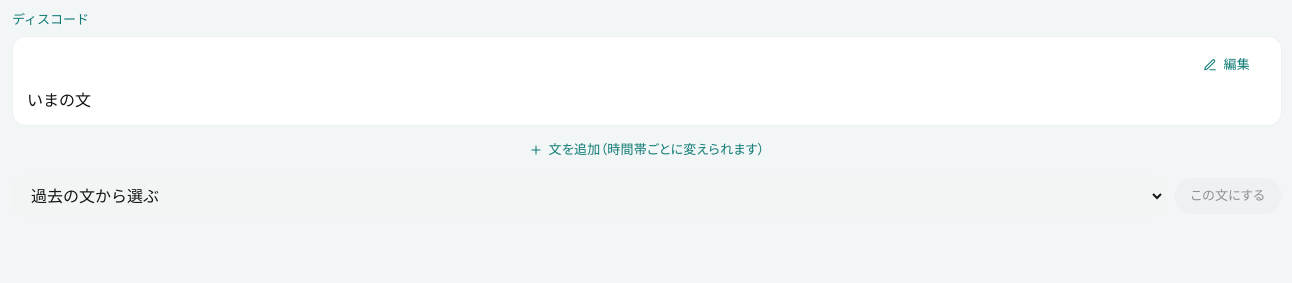
Scenario: ChannelTextRow（トップの一番上の、いま投稿されている文） › 選んだだけでは保存しない。「この文にする」を押すと、版を添えて保存し、返事を画面に取り込む
The image size is (1292, 283).
expect the button "この文にする" is disabled: met, box x1=1174 y1=178 x2=1282 y2=214
Select "前の文その1" in the dropdown named "ディスコードの過去の文": (589, 196) x1=12 y1=174 x2=1166 y2=218
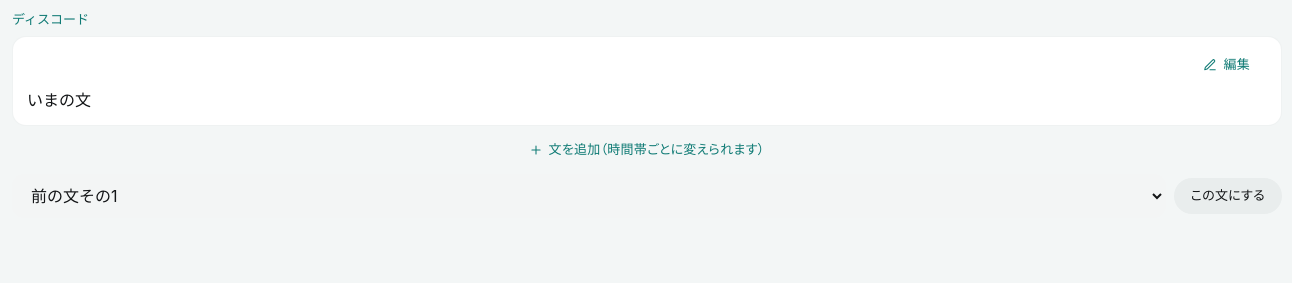
Click the button "この文にする": (1228, 196) x1=1174 y1=178 x2=1282 y2=214
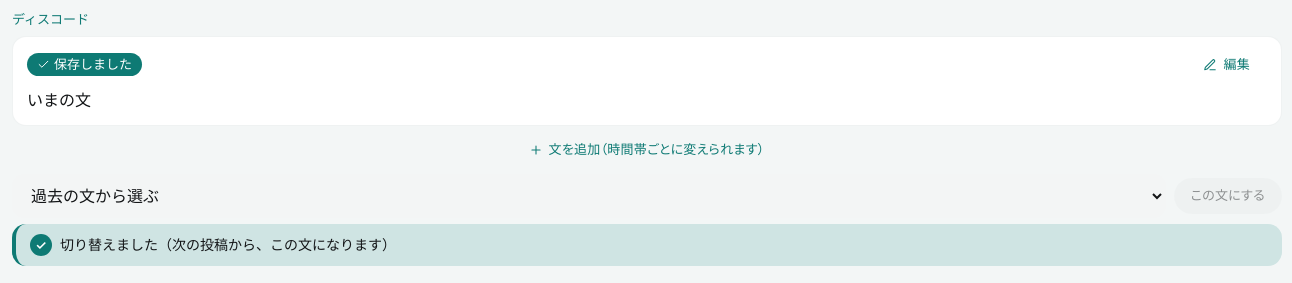
expect the text "切り替えました（次の投稿から、この文になります）" is shown: met, box x1=12 y1=224 x2=1282 y2=266
